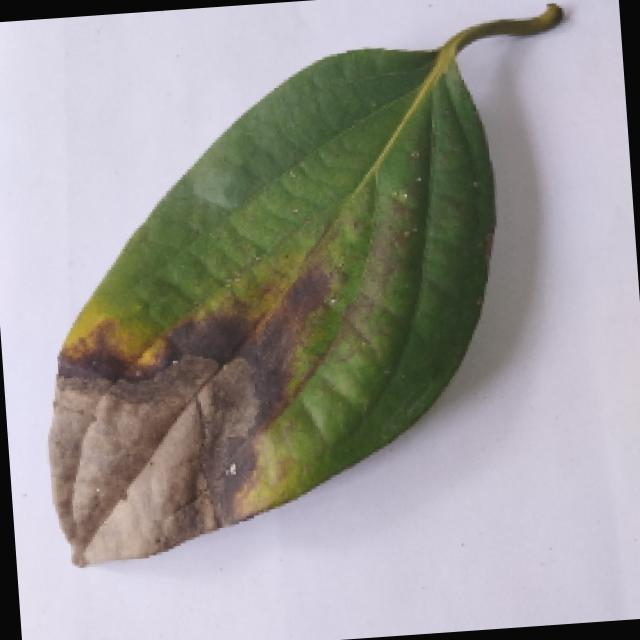footrot: (29, 6, 586, 568)
